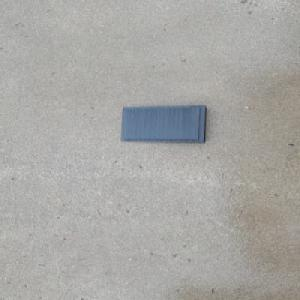PlasticPart: (118, 104, 208, 144)
